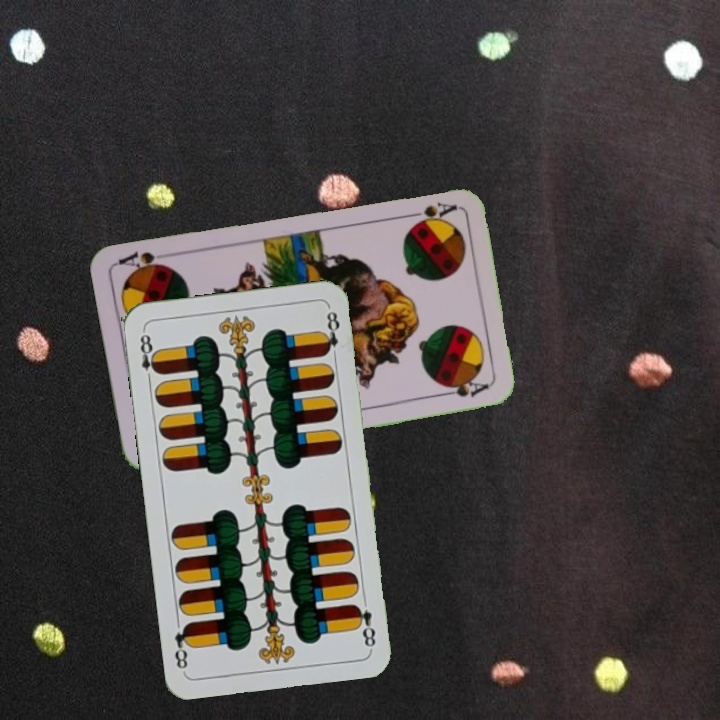E8: (136, 327, 162, 386), (350, 600, 378, 650)
SA: (400, 198, 459, 228)
